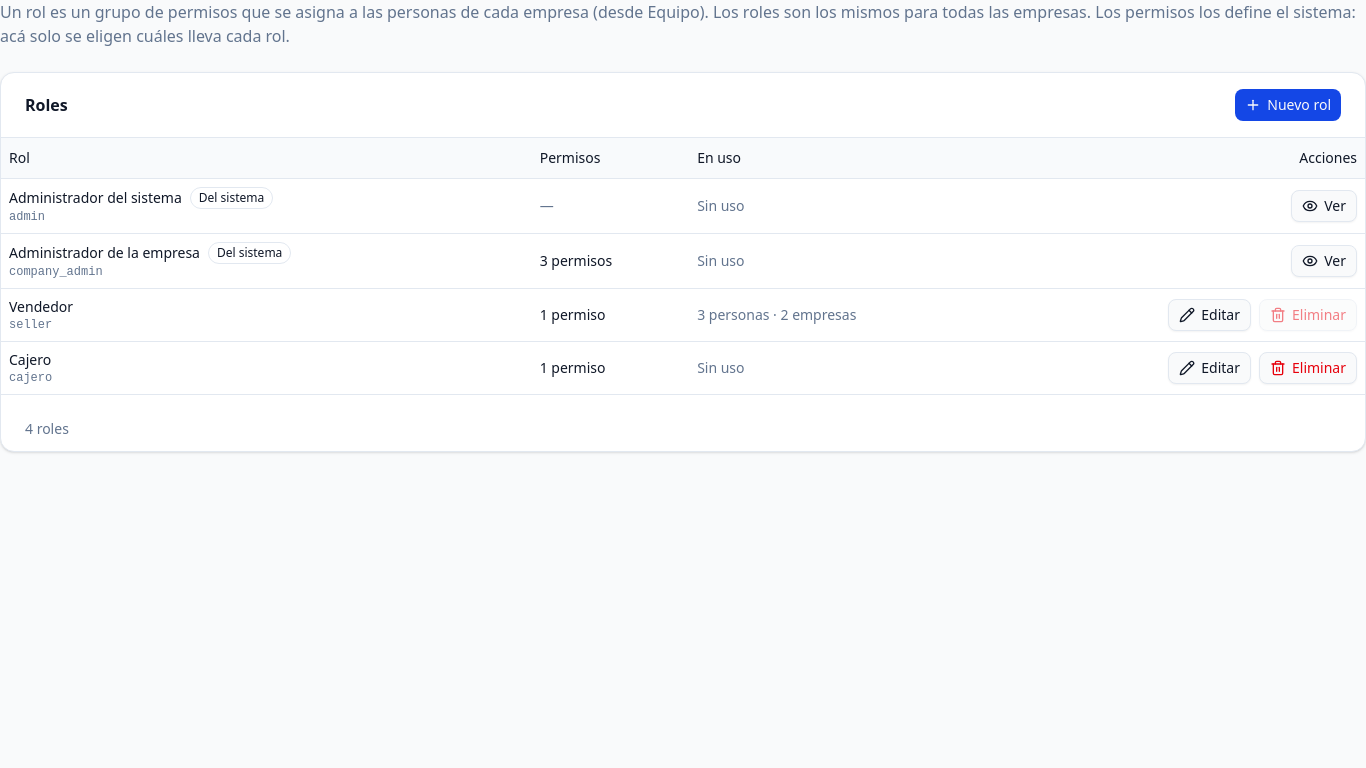
Test: Roles (administración del sistema) › si el servidor rechaza el borrado (alguien empezó a usarlo) muestra el motivo
What coordinates should you click on to do the following:
click the button with aria-label "Eliminar cajero"
I would click on:
 (1308, 368)
Its box is [1259, 352, 1357, 384].
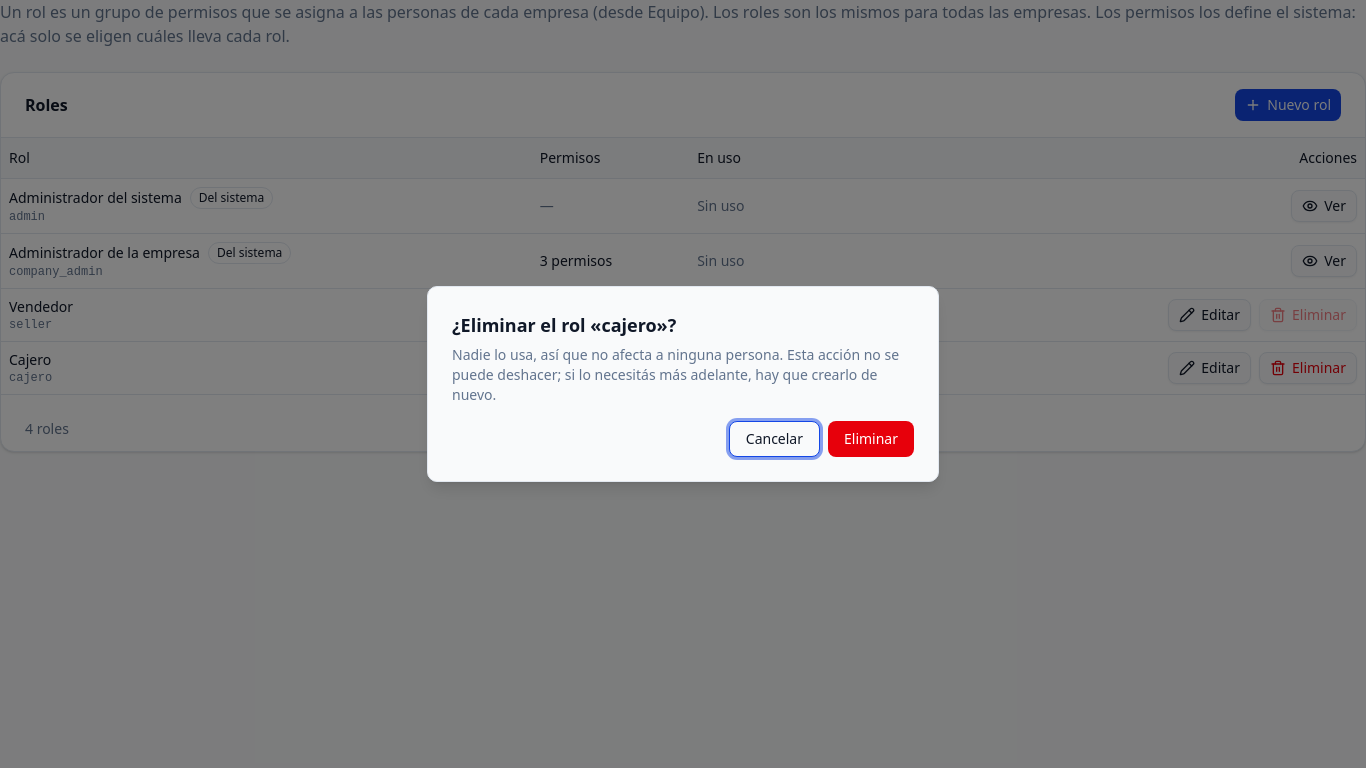
What coordinates should you click on to do the following:
click the button "Eliminar"
I would click on:
 (871, 439)
Its box is [828, 421, 914, 457].
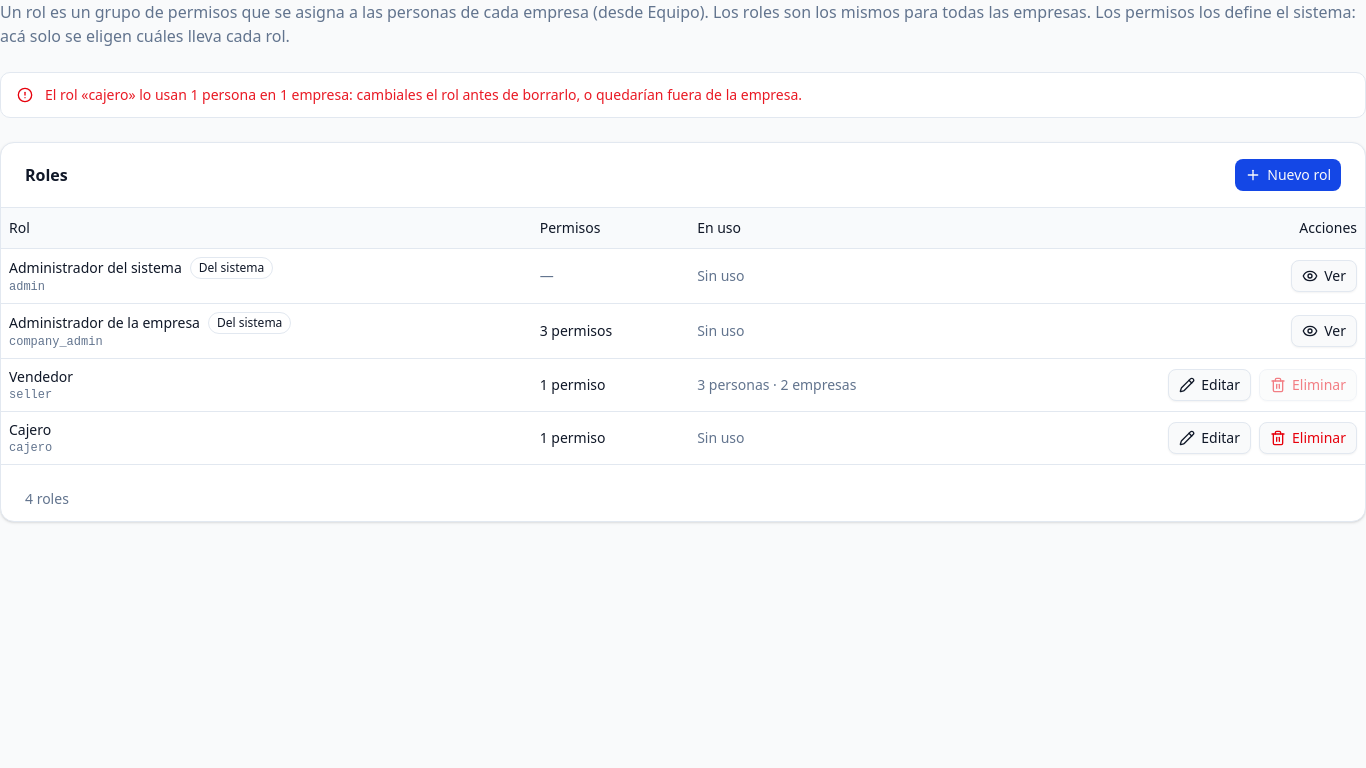
Now the text "lo usan 1 persona en 1 empresa" is shown, box [45, 85, 802, 104]
